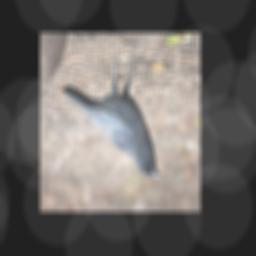Crow: (61, 57, 163, 178)
